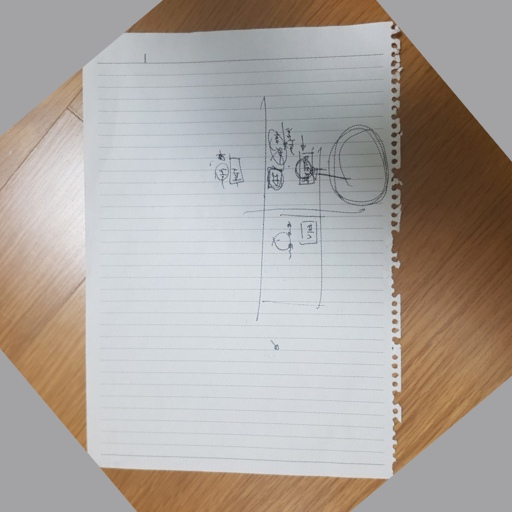Paper_2: (73, 22, 415, 488)
